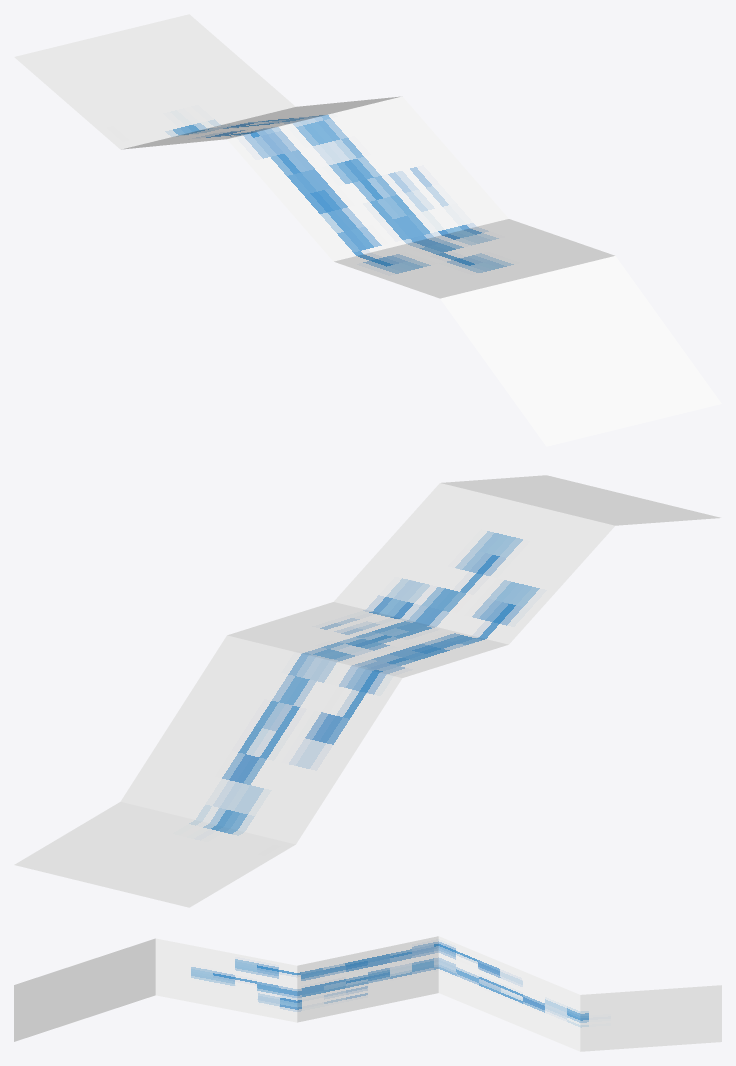
File: FortuneCookie_Paper.fbx
3 views of the same model, one above another, from view 1: azimuth 30°, elevation 25°; view 2: azimuth 150°, elevation 25°; view 3: azimuth 270°, elevation 25° (orthographic). The views are drawn at different scales.
Visible parts, largest first — view 1: Fortune_Paper; view 2: Fortune_Paper; view 3: Fortune_Paper.
Boxes of the visible parts, x1,y1,x2,y2 form: Fortune_Paper: (14,14,721,446); Fortune_Paper: (14,475,720,907); Fortune_Paper: (14,936,721,1051).
Bounding box in the file's own units: 4.84 × 2.33 × 25.43.
